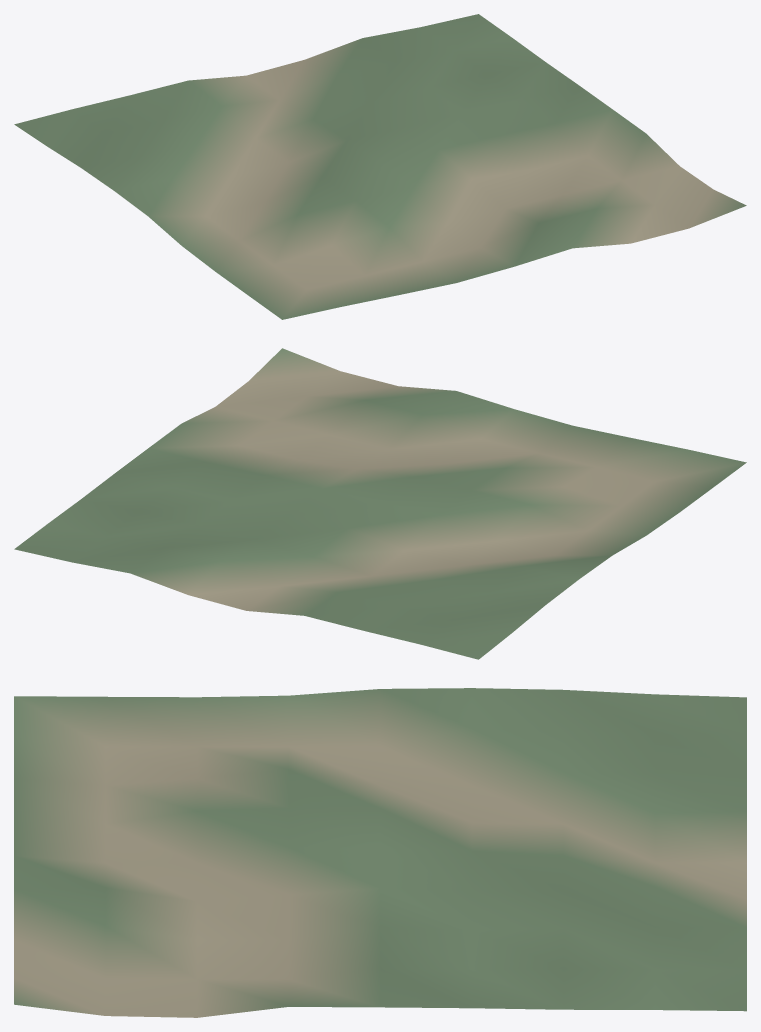
The picture shows the model from 3 angles, top to bottom: view 1: azimuth 30°, elevation 25°; view 2: azimuth 150°, elevation 25°; view 3: azimuth 270°, elevation 25°; orthographic projection. The views are drawn at different scales.
Parts seen in each view (by area): view 1: Lo; view 2: Lo; view 3: Lo.
Boxes of the visible parts, x1=… form: Lo: x1=14, y1=14, x2=746, y2=319; Lo: x1=14, y1=348, x2=746, y2=659; Lo: x1=14, y1=688, x2=746, y2=1017.
Bounding box in the file's own units: 256 × 7.72 × 256.
